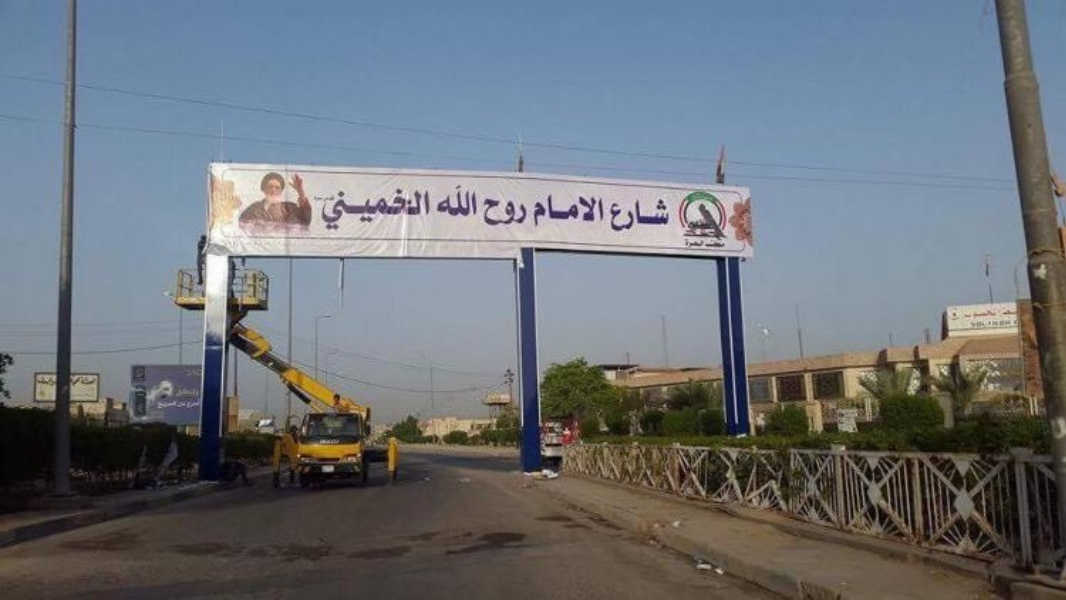text: (321, 187, 336, 232), (337, 187, 352, 232), (353, 187, 368, 232), (369, 187, 384, 232), (385, 187, 400, 232), (401, 187, 416, 232), (417, 187, 431, 232), (609, 197, 624, 234), (625, 197, 640, 234), (641, 197, 656, 234), (545, 192, 560, 228), (561, 192, 576, 228), (577, 192, 592, 228), (449, 182, 464, 218), (657, 197, 671, 234), (434, 182, 448, 218), (465, 182, 478, 218), (497, 197, 512, 227), (513, 197, 528, 227), (532, 192, 544, 228), (593, 192, 605, 228), (482, 197, 496, 227), (81, 372, 96, 389), (1009, 315, 1025, 330), (977, 315, 992, 330), (993, 315, 1008, 330), (977, 305, 992, 320), (993, 305, 1008, 320), (1009, 305, 1024, 320), (161, 397, 176, 411), (177, 397, 192, 411), (689, 237, 704, 251), (705, 237, 720, 251), (33, 373, 48, 387), (963, 305, 976, 320), (689, 190, 704, 202), (177, 387, 192, 399), (49, 373, 60, 387), (72, 372, 80, 389), (967, 315, 976, 330), (321, 192, 335, 201), (193, 397, 201, 411), (705, 190, 714, 202), (681, 237, 688, 251), (193, 387, 201, 399), (321, 438, 336, 444), (721, 237, 727, 251), (193, 367, 202, 376), (313, 192, 320, 201), (187, 367, 192, 376), (97, 372, 99, 389), (158, 397, 160, 411), (686, 190, 688, 202), (174, 387, 176, 399), (337, 438, 340, 444), (319, 438, 320, 444)
